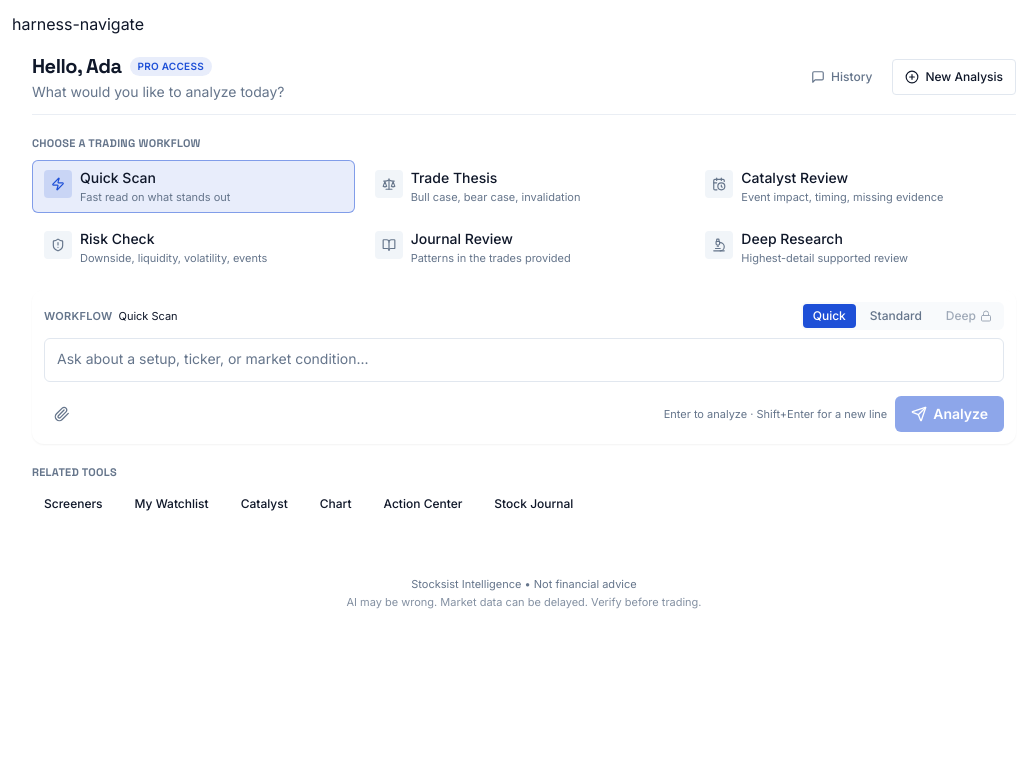
AI Analyst — simplified layout › keeps all six workflows rendered after conversation messages exist
Type "Keep the workflows visible" into the text box with placeholder "Ask about a setup, ticker, or market condition..." at (524, 360), box x1=44 y1=338 x2=1004 y2=382
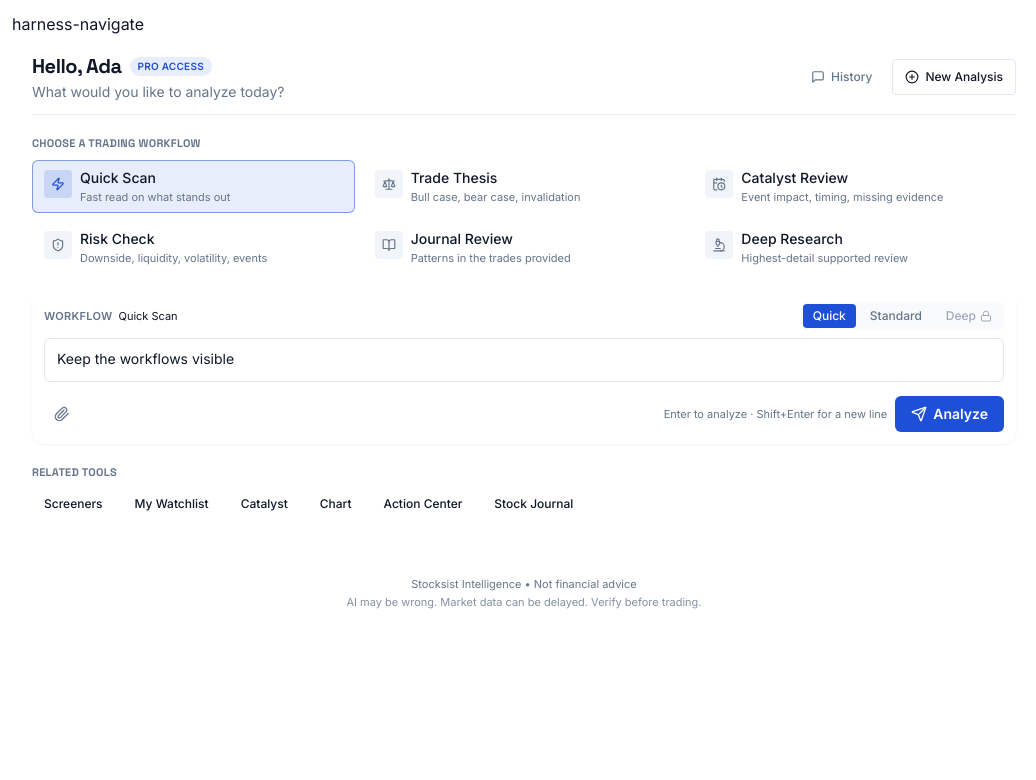
Press Enter in the text box with placeholder "Ask about a setup, ticker, or market condition...", box x1=44 y1=338 x2=1004 y2=382
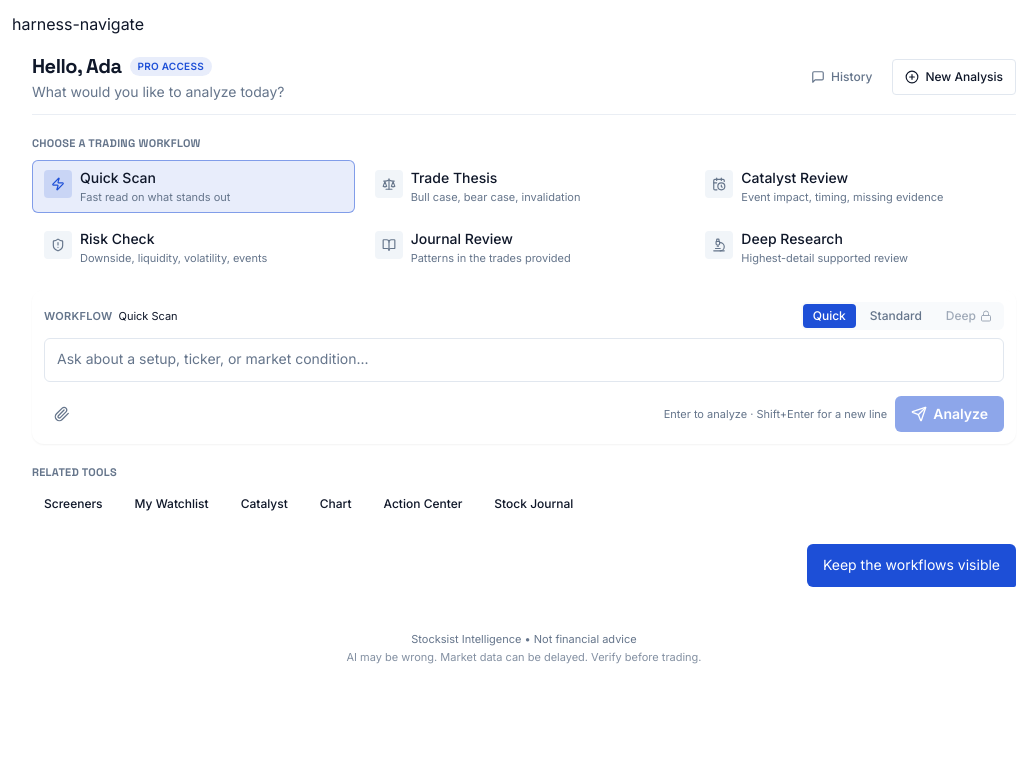
Expected: the button "Quick Scan Fast read on what stands out" is shown, x1=32 y1=160 x2=355 y2=213
Expected: the text "Keep the workflows visible" is shown, x1=807 y1=544 x2=1016 y2=587
